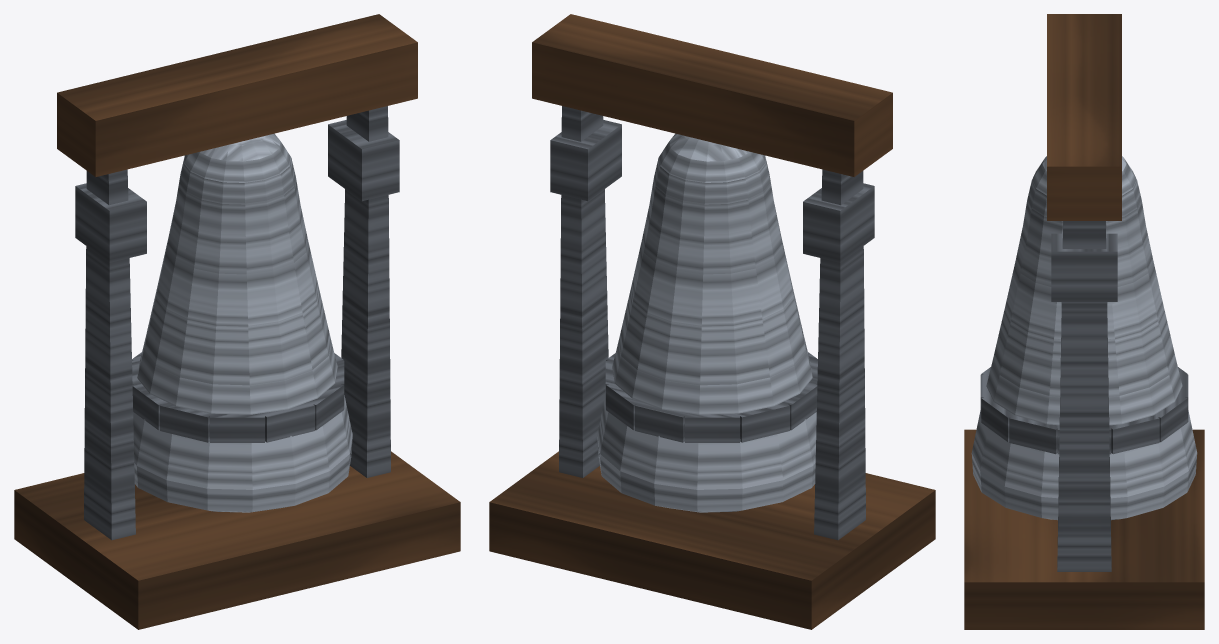
Rendered from ship_bell.fbx.
3 renders of one model, left to right at view 1: azimuth 30°, elevation 25°; view 2: azimuth 150°, elevation 25°; view 3: azimuth 270°, elevation 25°, orthographic. The views are drawn at different scales.
Parts seen in each view (by area): view 1: ship_bell; view 2: ship_bell; view 3: ship_bell.
Part boxes in pixels (box(x1,y1,x2,y2)): ship_bell: box(14, 14, 460, 629); ship_bell: box(489, 14, 935, 629); ship_bell: box(964, 14, 1204, 629).
Bounding box in the file's own units: 24 × 34 × 16.
